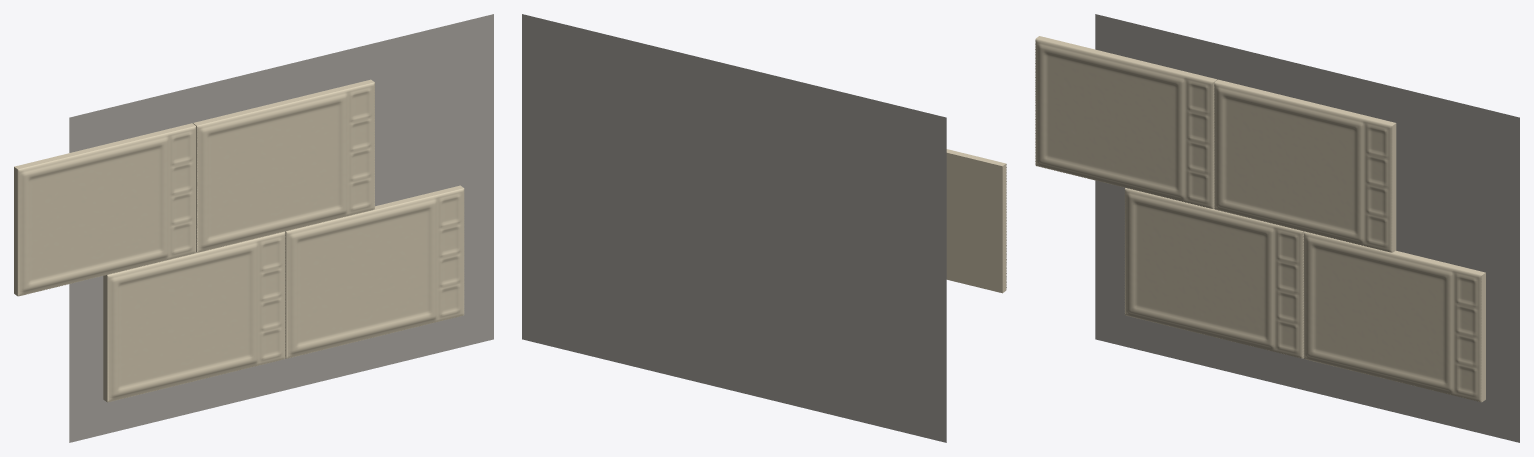
Rendered from terilgan.glb.
3 renders of one model, left to right at view 1: azimuth 30°, elevation 25°; view 2: azimuth 150°, elevation 25°; view 3: azimuth 330°, elevation 25°, orthographic.
Parts seen in each view (by area): view 1: Plane, t1_0, t1_1, t0_0, t0_1; view 2: Plane, t1_0; view 3: Plane, t1_1, t0_1, t1_0, t0_0.
Part boxes in pixels (left/top/right/bottom): Plane: left=69, top=14, right=493, bottom=442; t1_0: left=14, top=123, right=195, bottom=296; t1_1: left=193, top=79, right=374, bottom=252; t0_0: left=103, top=231, right=285, bottom=402; t0_1: left=285, top=185, right=464, bottom=358; Plane: left=522, top=14, right=946, bottom=442; t1_0: left=946, top=149, right=1006, bottom=293; Plane: left=1095, top=14, right=1519, bottom=442; t1_1: left=1214, top=79, right=1396, bottom=252; t0_1: left=1303, top=231, right=1485, bottom=402; t1_0: left=1035, top=36, right=1217, bottom=208; t0_0: left=1124, top=188, right=1303, bottom=358.
Bounding box in the file's own units: 2.16 × 1.4 × 0.0419.
